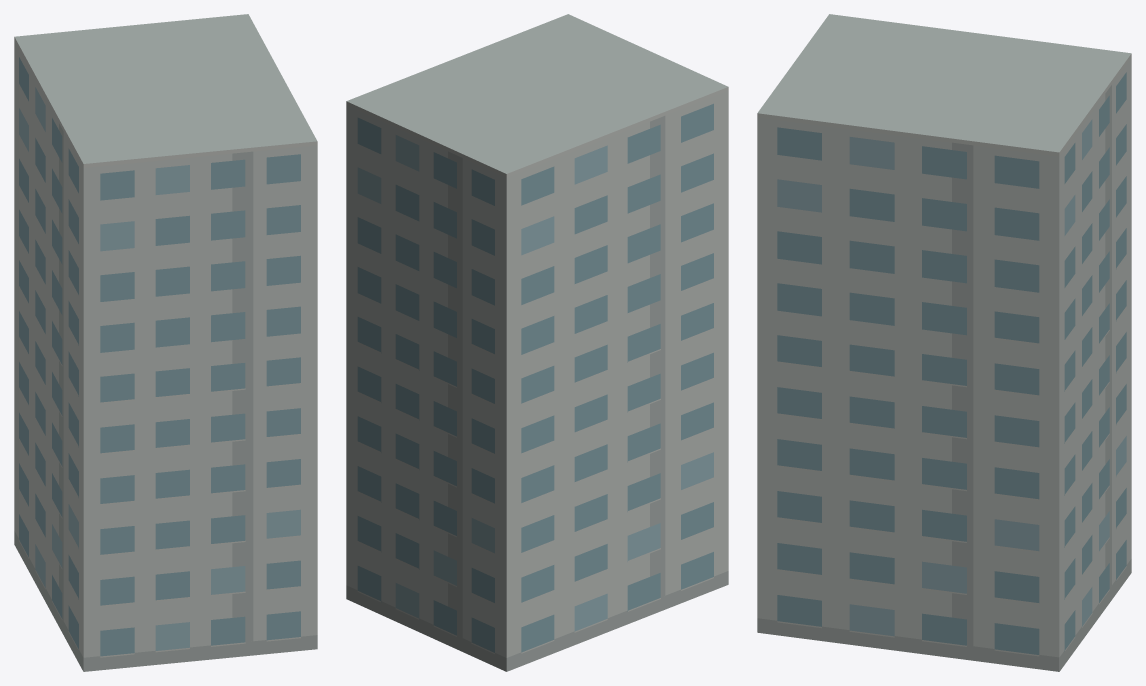
Rendered from residential-87b27fd8-3acb-449d-adee-12c753b7890e.glb.
The picture shows the model from 3 angles, left to right: view 1: azimuth 30°, elevation 25°; view 2: azimuth 150°, elevation 25°; view 3: azimuth 270°, elevation 25°; orthographic projection. The views are drawn at different scales.
Visible parts, largest first — view 1: residential-87b27fd8-3acb-449d-adee-12c753b7890e.tmp; view 2: residential-87b27fd8-3acb-449d-adee-12c753b7890e.tmp; view 3: residential-87b27fd8-3acb-449d-adee-12c753b7890e.tmp.
Boxes of the visible parts, x1=… form: residential-87b27fd8-3acb-449d-adee-12c753b7890e.tmp: x1=14, y1=14, x2=317, y2=671; residential-87b27fd8-3acb-449d-adee-12c753b7890e.tmp: x1=346, y1=14, x2=728, y2=671; residential-87b27fd8-3acb-449d-adee-12c753b7890e.tmp: x1=757, y1=14, x2=1131, y2=671.
Bounding box in the file's own units: 17.73 × 31 × 20.26.
